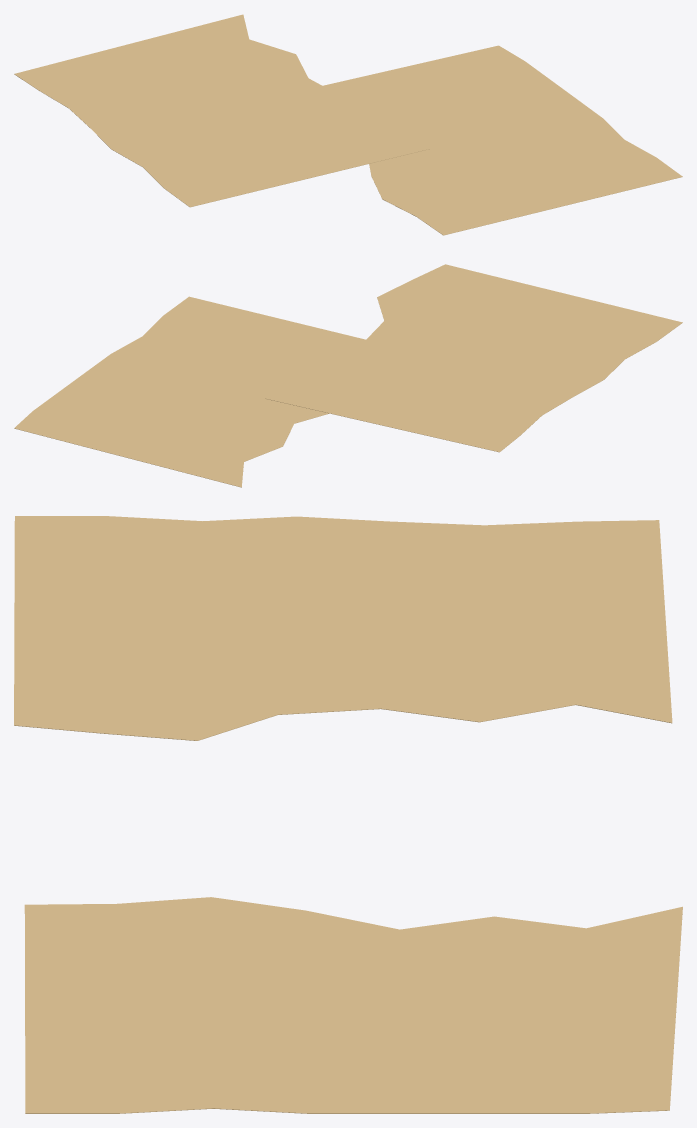
The model's file is TornPages.glb.
3 views of the same model, one above another, from view 1: azimuth 30°, elevation 25°; view 2: azimuth 150°, elevation 25°; view 3: azimuth 270°, elevation 25° (orthographic). The views are drawn at different scales.
Parts seen in each view (by area): view 1: TornPageRight.001, TornPageRight; view 2: TornPageRight.001, TornPageRight; view 3: TornPageRight.001, TornPageRight.
Boxes of the visible parts, <box> form: TornPageRight.001: <box>14,14,430,207</box>; TornPageRight: <box>323,45,682,235</box>; TornPageRight.001: <box>265,264,682,452</box>; TornPageRight: <box>14,296,365,487</box>; TornPageRight.001: <box>14,516,672,740</box>; TornPageRight: <box>24,897,682,1113</box>.
Bounding box in the file's own units: 1.07 × 0.1914 × 0.6995.
